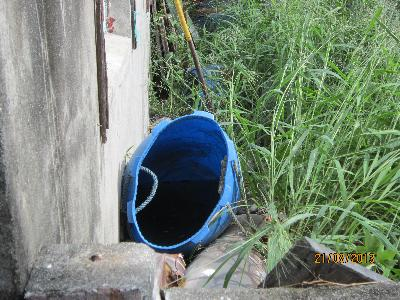bucket: (124, 110, 245, 257)
